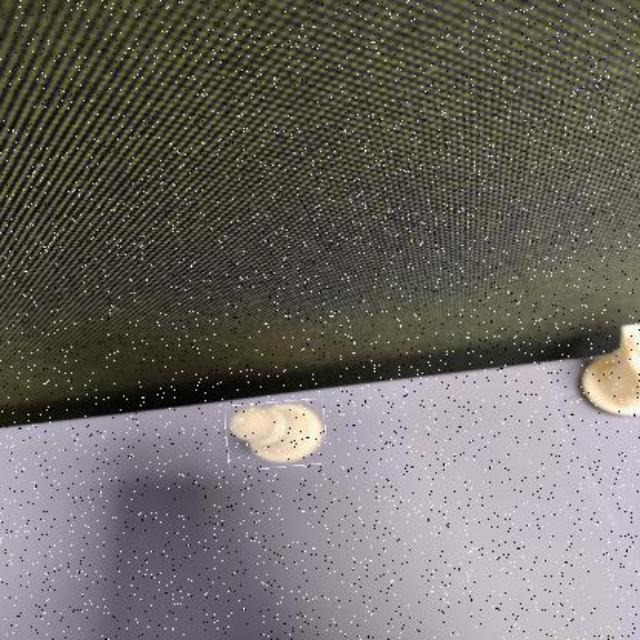white-bishop: (226, 400, 327, 469)
